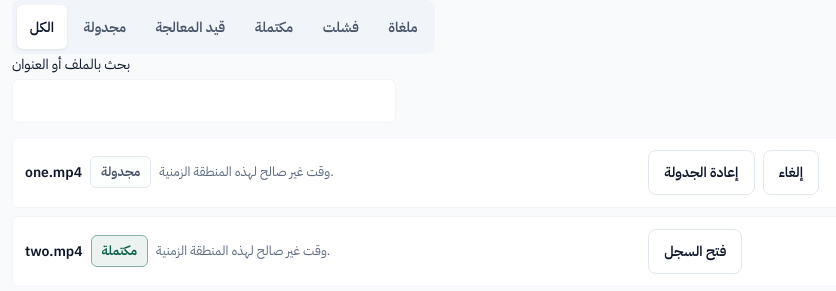
Test: ScheduledUploadsClient › lists schedules and filters by status tab
This screenshot has width=836, height=291.
Expected: the text "one.mp4" is shown, x1=25 y1=162 x2=82 y2=183
Expected: the text "two.mp4" is shown, x1=25 y1=241 x2=83 y2=262
Click the tab "مكتملة". click: (274, 27)
box: x1=242 y1=5 x2=306 y2=49
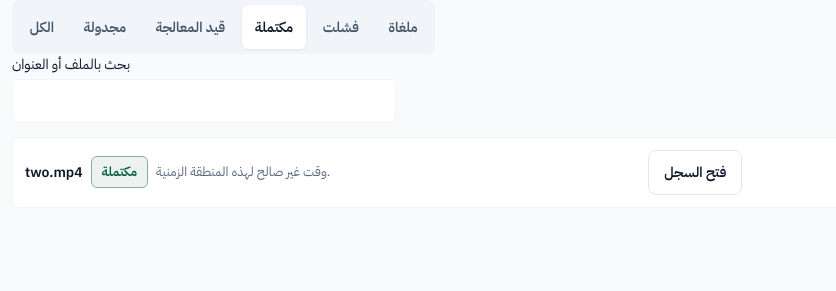
Expected: the text "two.mp4" is shown, x1=25 y1=162 x2=83 y2=183
Result: the text "one.mp4" is gone
